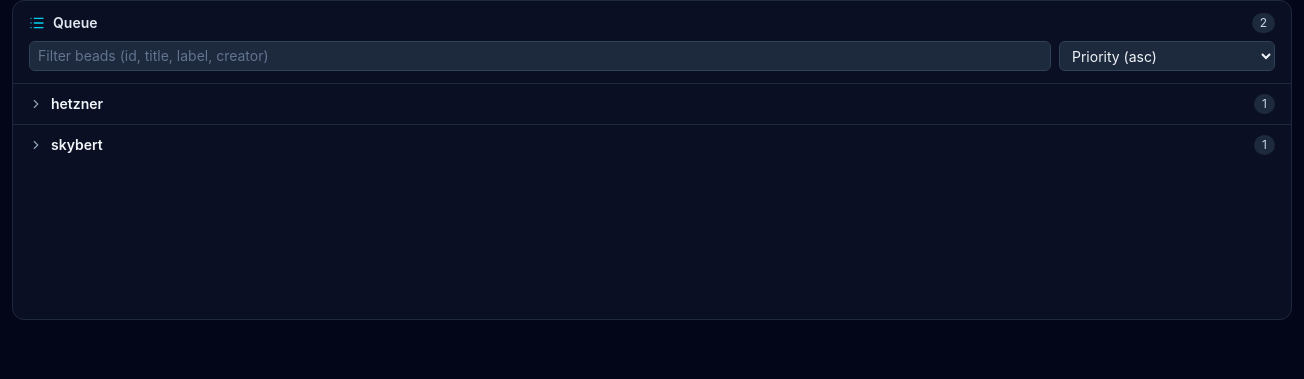
QueuePane › apply-dispatch-tag button › uses the per-anvil tag — different anvils show different labels
Click the button "hetzner 1".
click(77, 104)  # box [13,84,1291,124]
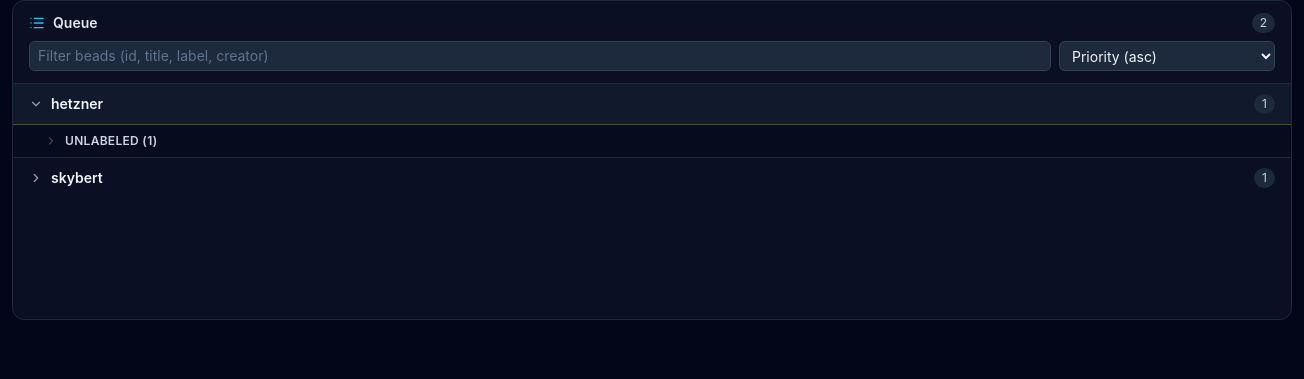
Click the button "skybert 1".
click(77, 178)  # box [13,158,1291,198]
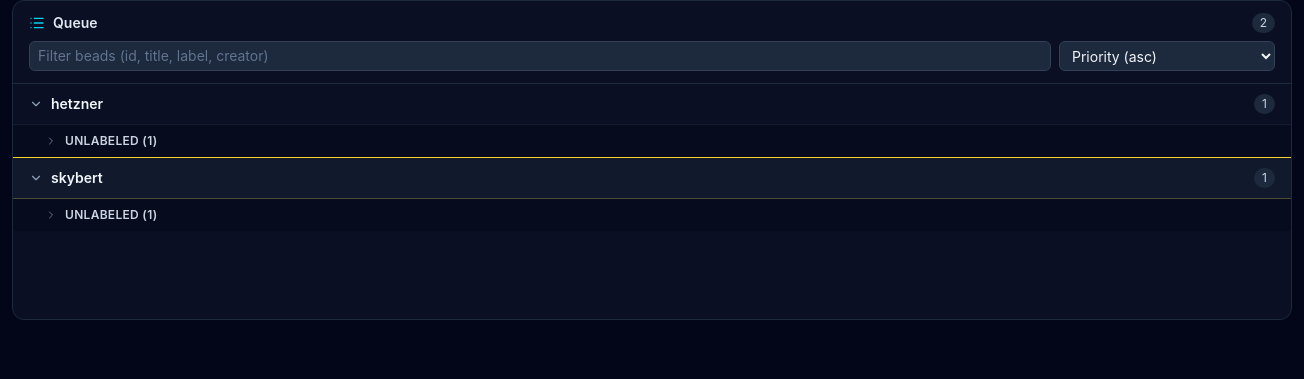
Check: the number of buttons "Unlabeled (1)" is 2
Click the 1st button "Unlabeled (1)".
click(111, 140)  # box [13,125,1291,157]
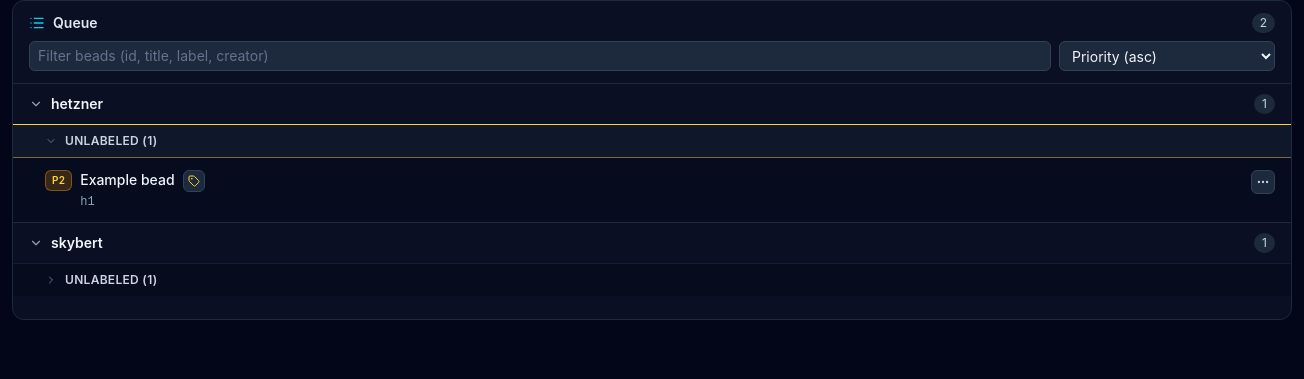
Click the 2nd button "Unlabeled (1)".
click(111, 280)  # box [13,264,1291,296]
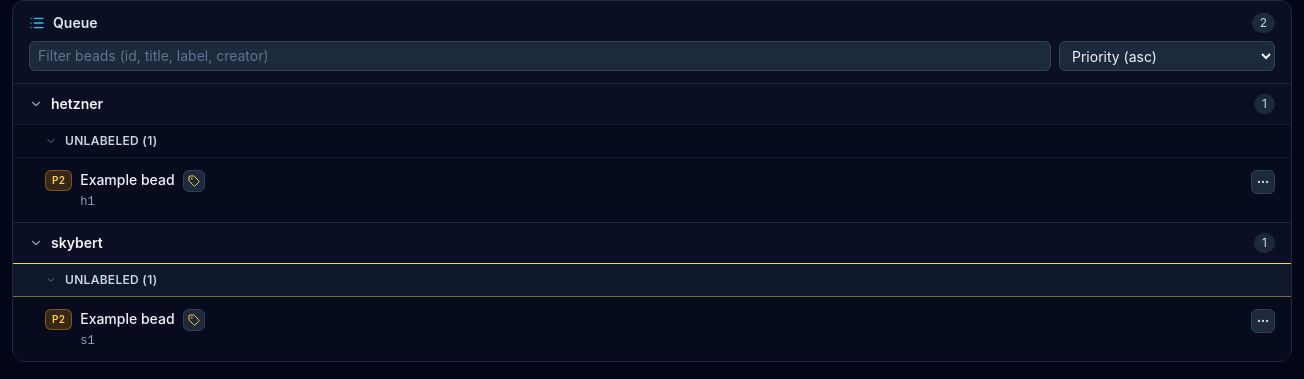
Check: the button named "Apply forgeReady" is shown, box [183,170,205,192]
Check: the button named "Apply forgeSkybert" is shown, box [183,309,205,331]
